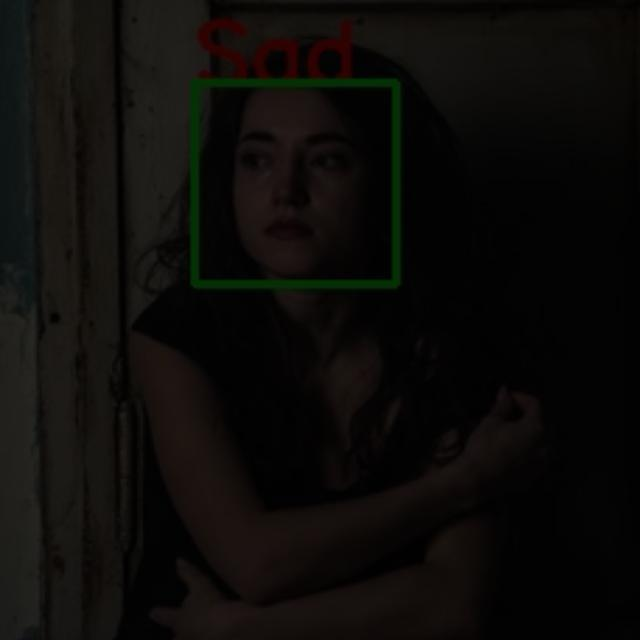Sad: (183, 72, 414, 312)
